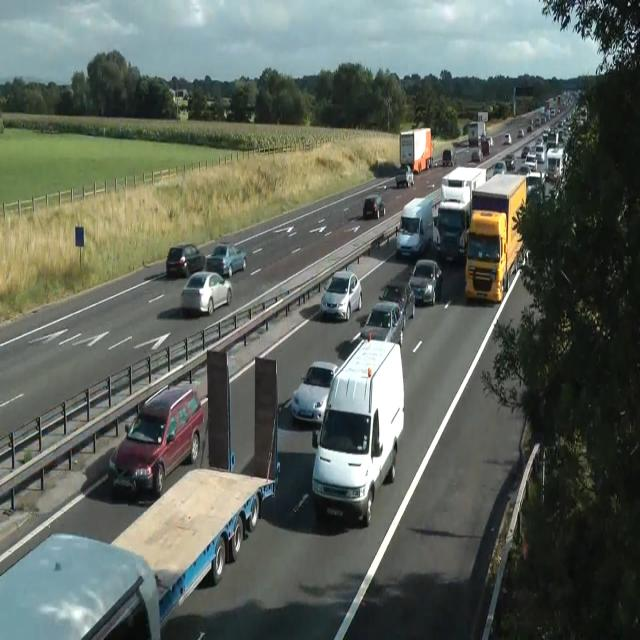bus: (290, 360, 338, 423), (180, 270, 232, 316), (320, 268, 362, 321), (408, 258, 442, 306), (378, 281, 414, 323), (204, 243, 247, 277), (362, 194, 386, 220), (395, 165, 414, 188), (525, 152, 537, 170), (492, 160, 506, 175), (504, 153, 516, 170), (479, 134, 493, 148), (471, 148, 483, 162), (520, 144, 530, 158), (504, 132, 512, 145), (488, 136, 494, 147), (517, 128, 523, 138), (527, 124, 532, 132)
car: (464, 209, 508, 303)
jeep: (108, 379, 204, 498), (433, 199, 469, 263), (358, 298, 404, 346), (165, 242, 203, 277)
minibus: (0, 353, 280, 639), (311, 334, 405, 527), (464, 173, 528, 303), (434, 165, 486, 263), (396, 195, 434, 258), (441, 166, 486, 204), (399, 126, 433, 174), (545, 147, 565, 182), (468, 120, 486, 147)
